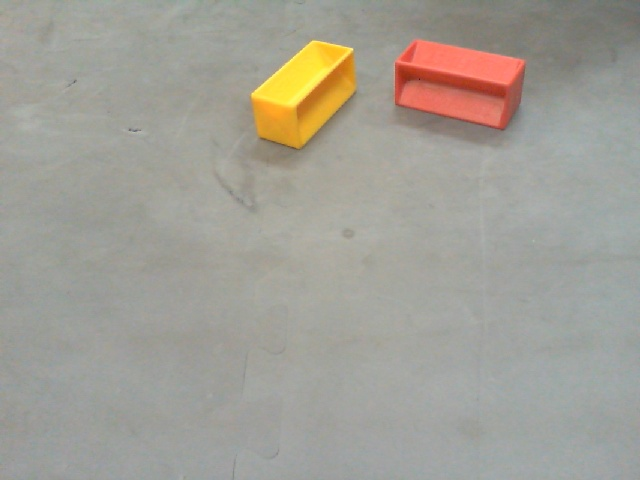RedSample: (394, 39, 528, 134)
YellowSample: (254, 39, 355, 143)
